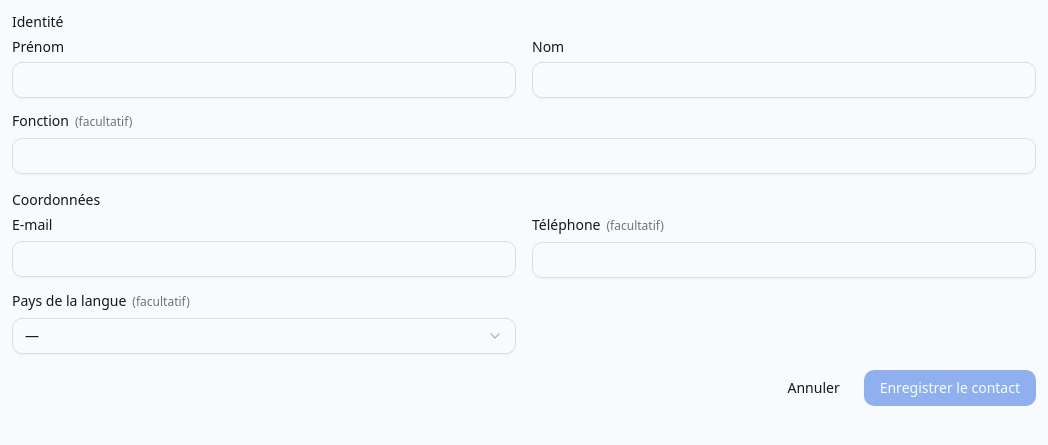
CollectContactForm › checks the email before sending
Type "not an email" into the field labelled "E-mail" at (264, 259), box [12,241,516,277]
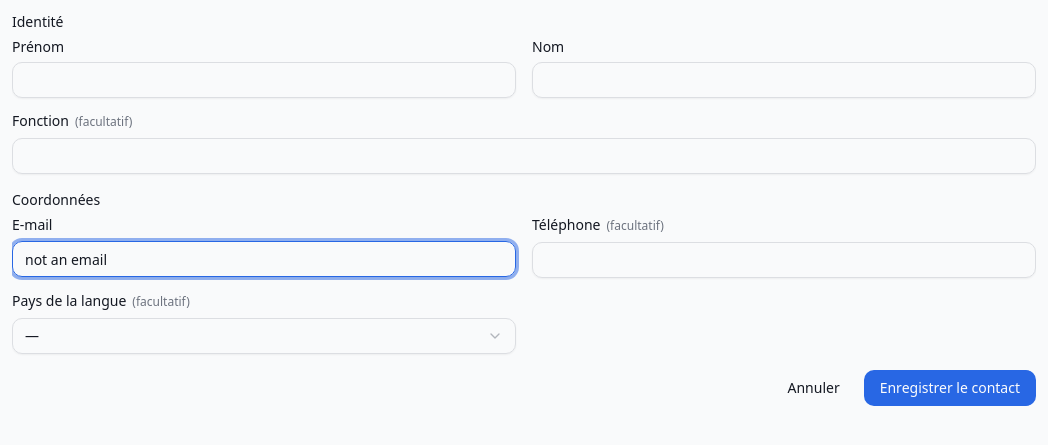
Click the button "Enregistrer le contact" at (950, 388), box [864,370,1036,406]
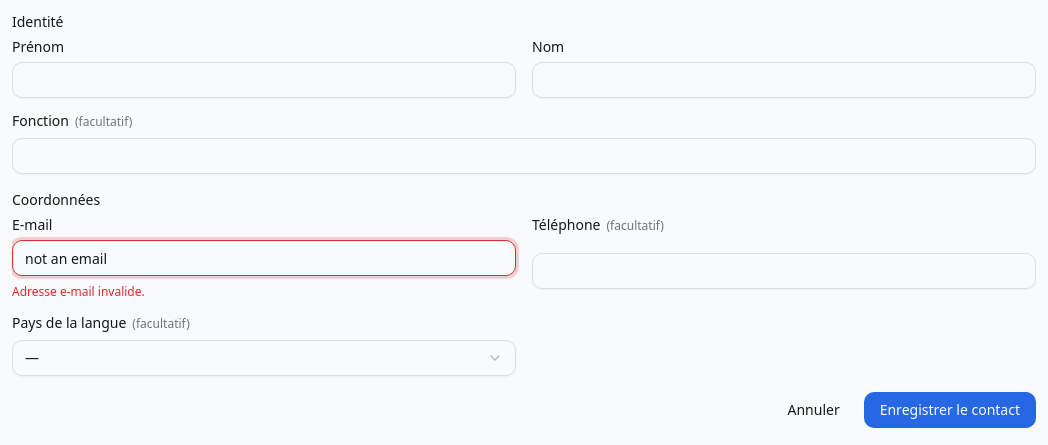
Now the text "Adresse e-mail invalide." is shown, box [12,283,145,300]
